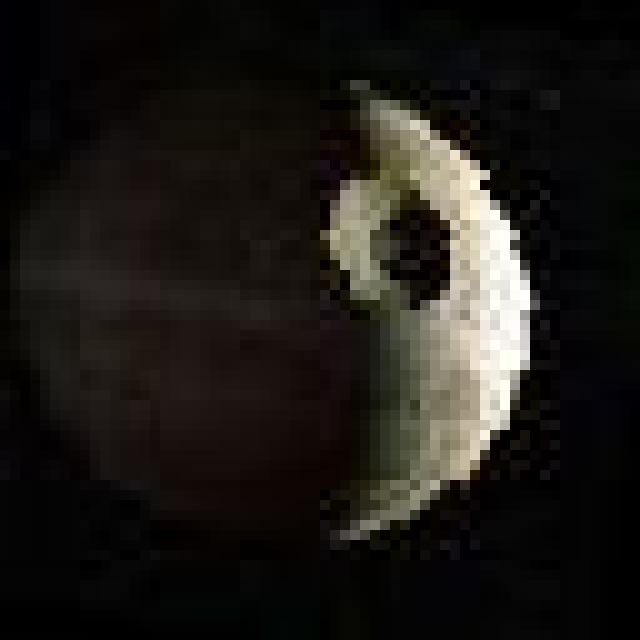Death Star: (22, 70, 540, 549)
